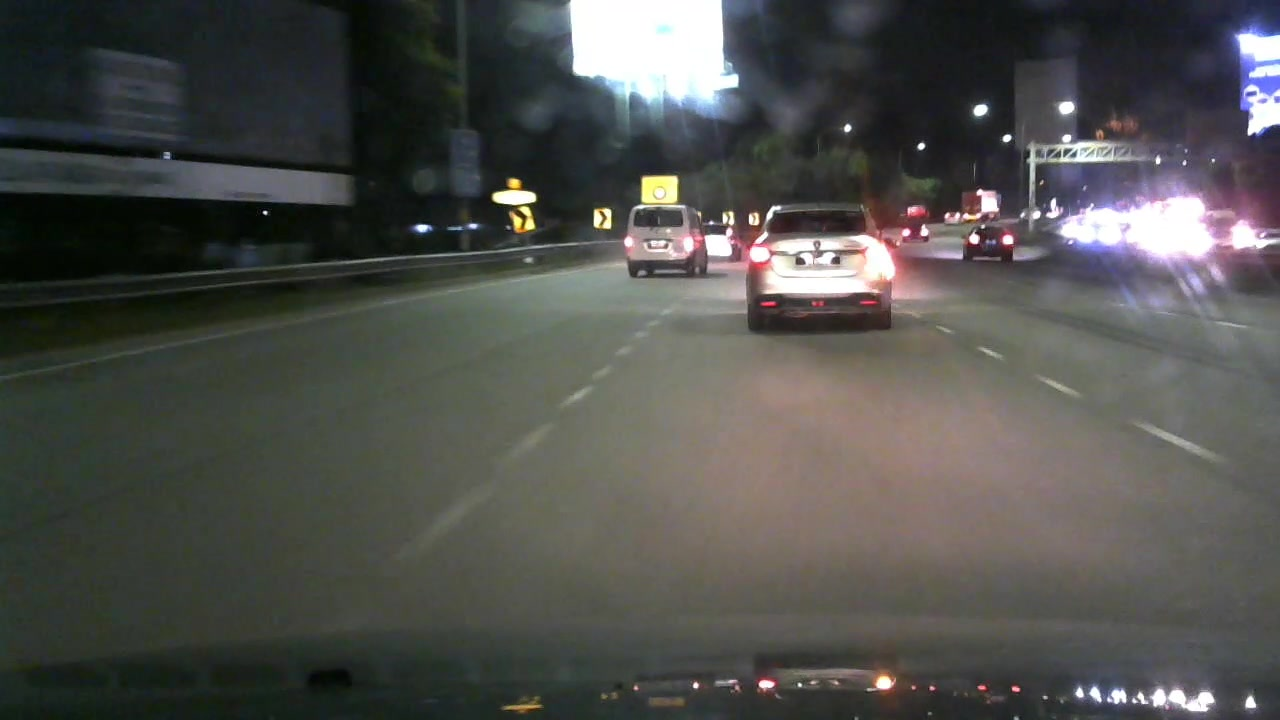Car: (752, 186, 910, 340), (618, 199, 709, 276), (1061, 206, 1124, 250), (963, 219, 1020, 265), (698, 212, 737, 265)
